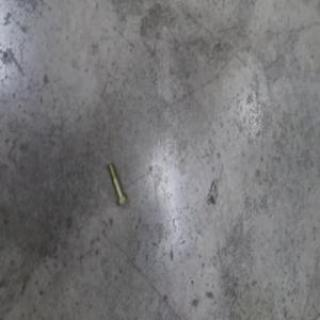Bolttrack_idkeyframe: (105, 161, 125, 207)
